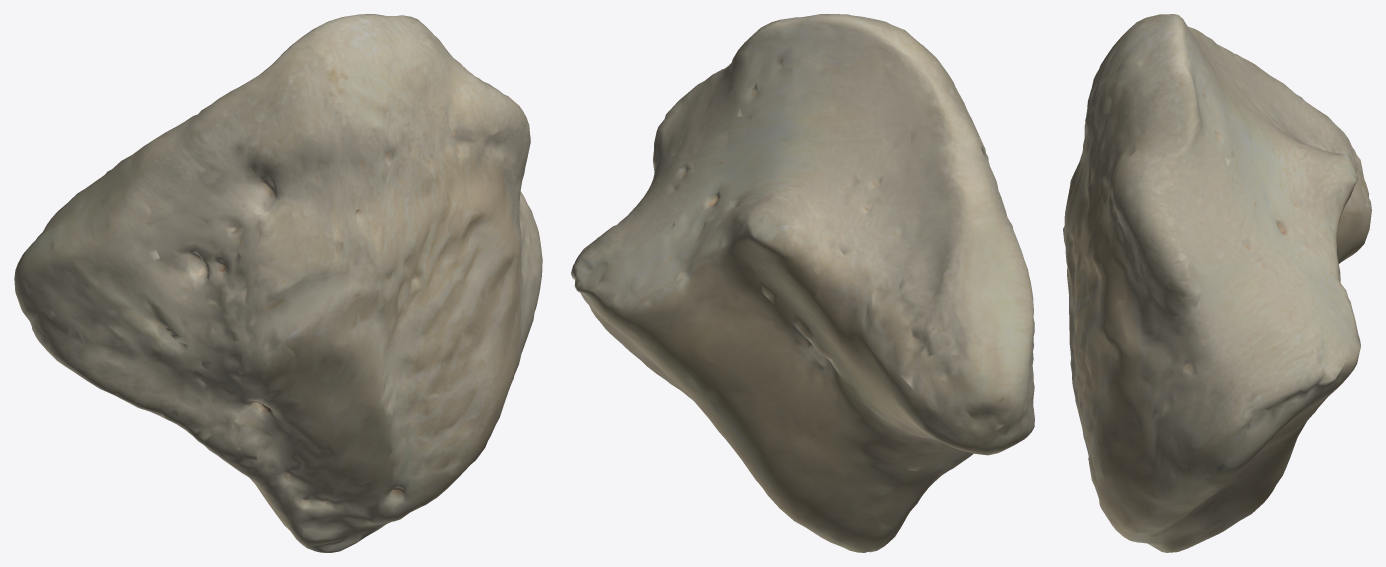
3 renders of one model, left to right at view 1: azimuth 30°, elevation 25°; view 2: azimuth 150°, elevation 25°; view 3: azimuth 270°, elevation 25°, orthographic.
Parts seen in each view (by area): view 1: Kneischeibe Pferd_li.001; view 2: Kneischeibe Pferd_li.001; view 3: Kneischeibe Pferd_li.001.
Boxes of the visible parts, x1,y1,x2,y2 form: Kneischeibe Pferd_li.001: [14, 14, 542, 552]; Kneischeibe Pferd_li.001: [571, 14, 1034, 552]; Kneischeibe Pferd_li.001: [1063, 14, 1371, 552].
Bounding box in the file's own units: 8412 × 8944 × 4716.
Materials: 1 (1 with a texture image).
